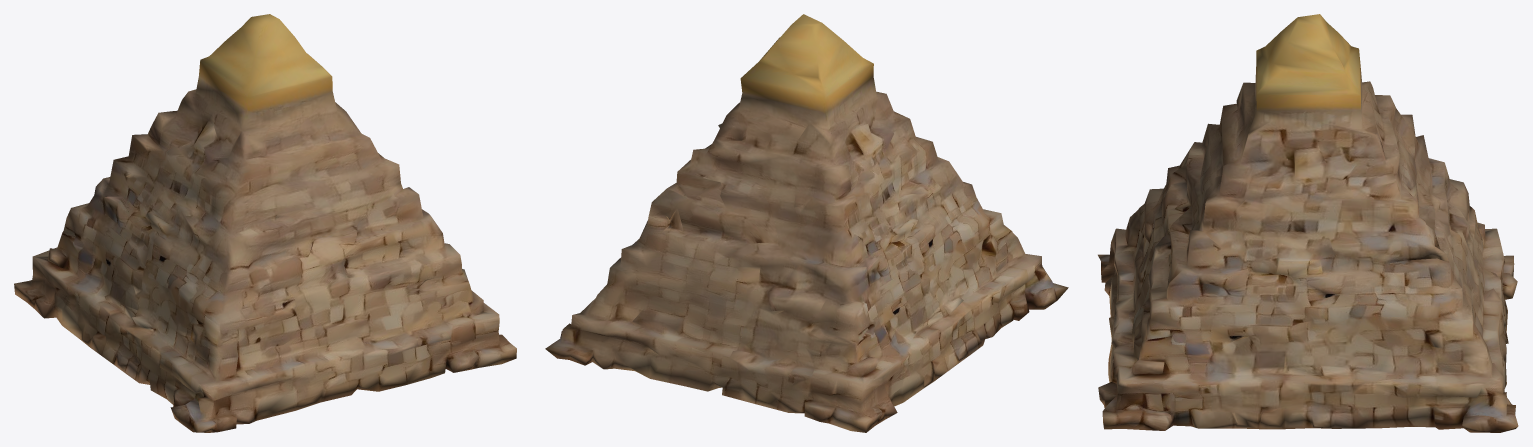
The picture shows the model from 3 angles, left to right: view 1: azimuth 30°, elevation 25°; view 2: azimuth 150°, elevation 25°; view 3: azimuth 270°, elevation 25°; orthographic projection. The views are drawn at different scales.
Visible parts, largest first — view 1: tripo_node_24ba3546-5d33-4087-a8b7-5eab31348d6f; view 2: tripo_node_24ba3546-5d33-4087-a8b7-5eab31348d6f; view 3: tripo_node_24ba3546-5d33-4087-a8b7-5eab31348d6f.
Part boxes in pixels (x1,y1,x2,y2): tripo_node_24ba3546-5d33-4087-a8b7-5eab31348d6f: (14, 14, 516, 432); tripo_node_24ba3546-5d33-4087-a8b7-5eab31348d6f: (545, 14, 1068, 432); tripo_node_24ba3546-5d33-4087-a8b7-5eab31348d6f: (1098, 14, 1518, 432).
Bounding box in the file's own units: 0.991 × 0.8707 × 1.
1 material, 1 textured.
